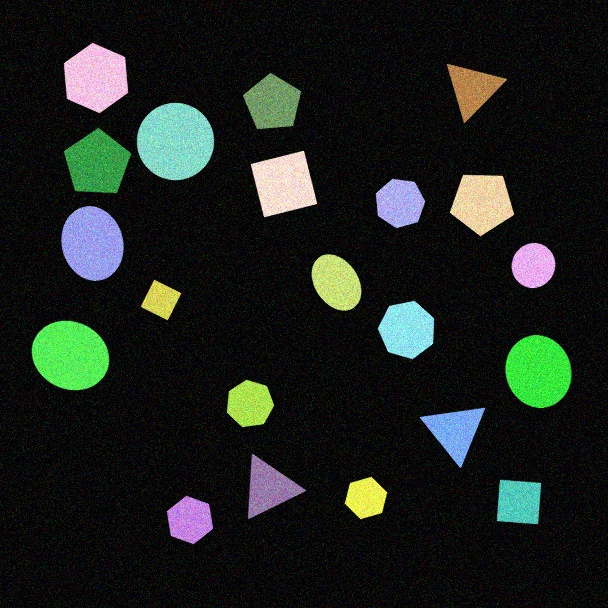Circulo: (136, 102, 215, 181), (505, 334, 572, 409), (511, 242, 556, 289)
Elipse: (31, 320, 110, 391), (61, 205, 124, 282), (311, 253, 362, 312)
Heptagono: (377, 300, 435, 360), (375, 178, 426, 229), (226, 379, 275, 428)
Hexagono: (63, 42, 129, 114), (166, 495, 214, 545), (344, 476, 388, 520)
Pentagono: (63, 127, 132, 194), (449, 174, 515, 237), (242, 72, 302, 130)
Quadrado: (250, 150, 318, 218), (496, 479, 542, 525), (140, 279, 182, 321)
Triangulo: (419, 407, 486, 469), (247, 453, 307, 520), (446, 63, 508, 124)
